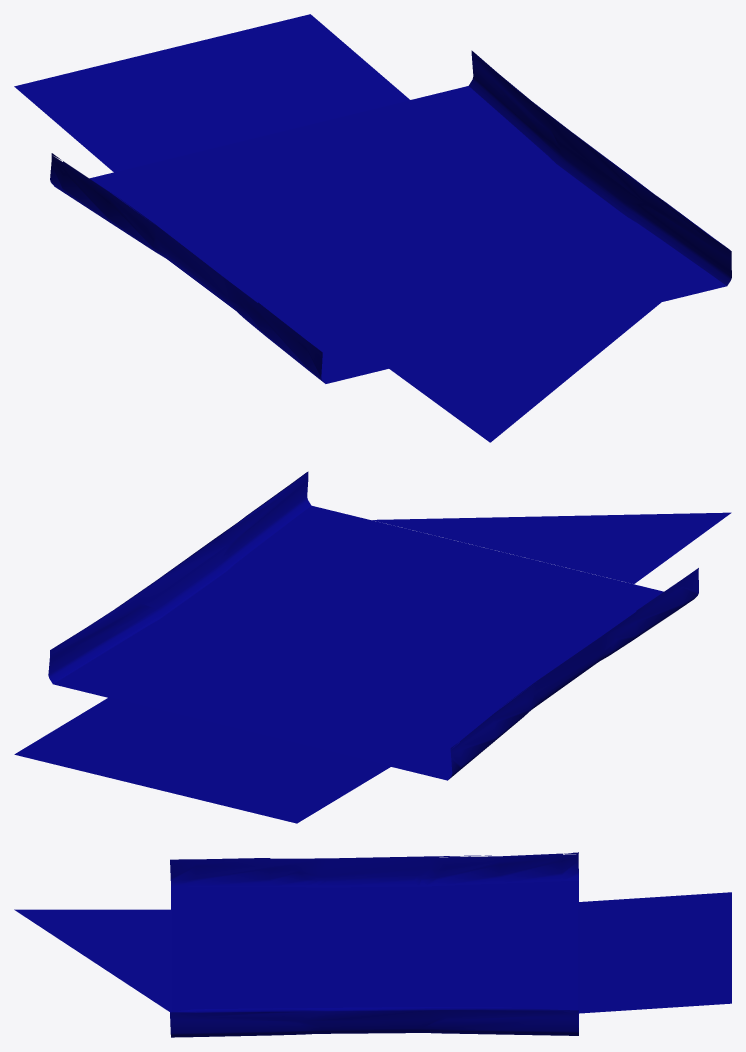
File: evo9_near_boot.FBX
3 renders of one model, top to bottom at view 1: azimuth 30°, elevation 25°; view 2: azimuth 150°, elevation 25°; view 3: azimuth 270°, elevation 25°, orthographic. The views are drawn at different scales.
Parts seen in each view (by area): view 1: 对象03, 对象02; view 2: 对象03, 对象02; view 3: 对象03, 对象02.
Part boxes in pixels (x1,y1,x2,y2): 对象03: (14, 14, 726, 442); 对象02: (468, 50, 731, 285); 对象03: (14, 505, 731, 823); 对象02: (48, 471, 311, 683); 对象03: (14, 852, 731, 1027); 对象02: (170, 1007, 578, 1037).
Bounding box in the file's own units: 3882 × 354 × 7402.
